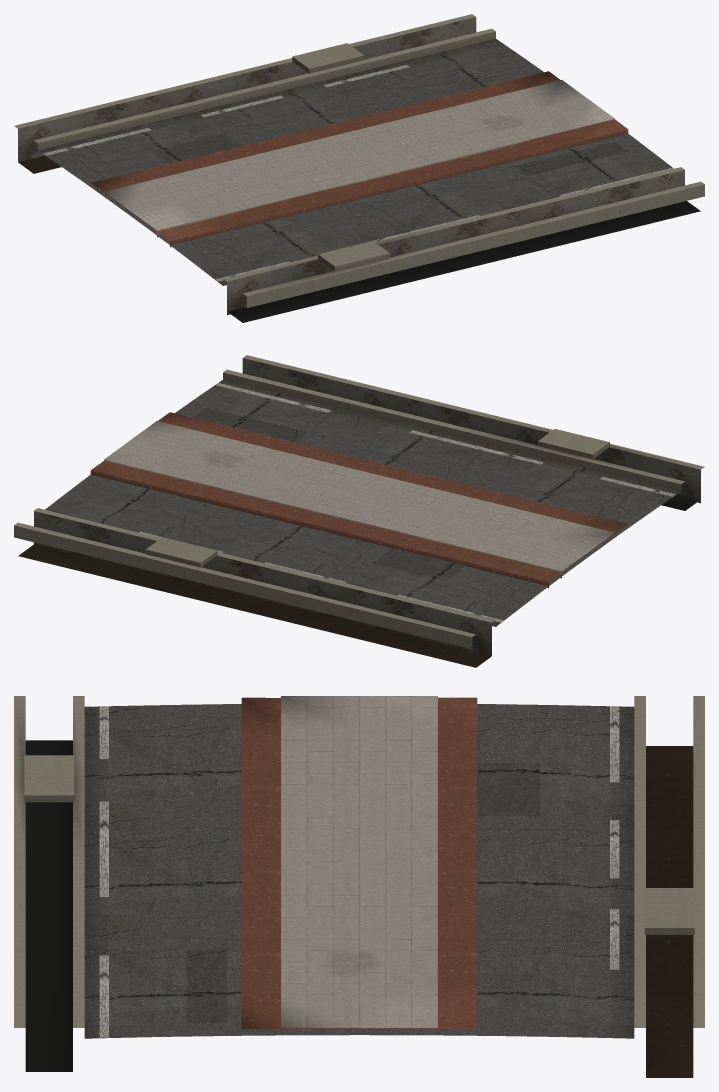
Rendered from env_street.glb.
The picture shows the model from 3 angles, top to bottom: view 1: azimuth 30°, elevation 25°; view 2: azimuth 150°, elevation 25°; view 3: azimuth 270°, elevation 25°; orthographic projection. The views are drawn at different scales.
Parts seen in each view (by area): view 1: street_road_10m, street_sidewalk_10m, street_shoulder_laterite_10m; view 2: street_road_10m, street_sidewalk_10m, street_shoulder_laterite_10m; view 3: street_road_10m, street_sidewalk_10m, street_shoulder_laterite_10m.
Boxes of the visible parts, x1,y1,x2,y2 form: street_road_10m: (14, 14, 704, 322); street_sidewalk_10m: (104, 80, 614, 237); street_shoulder_laterite_10m: (91, 71, 628, 247); street_road_10m: (14, 355, 704, 667); street_sidewalk_10m: (104, 421, 614, 578); street_shoulder_laterite_10m: (90, 412, 627, 588); street_road_10m: (14, 696, 704, 1077); street_sidewalk_10m: (281, 696, 437, 1027); street_shoulder_laterite_10m: (241, 697, 477, 1029).
Bounding box in the file's own units: 10 × 0.8 × 8.8.
8 materials, 7 textured.
